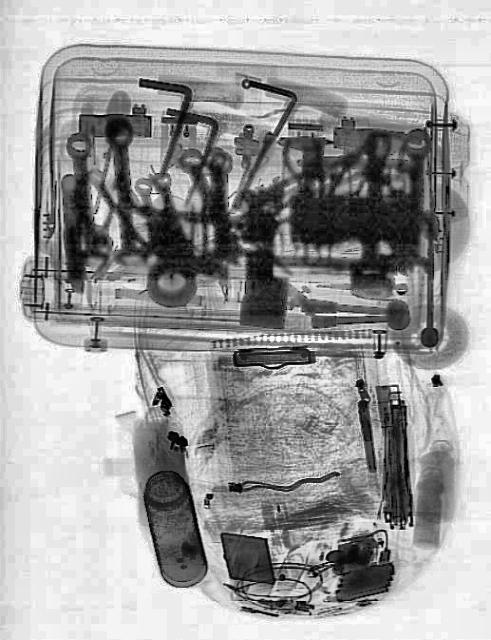Wrench: (65, 128, 109, 280), (102, 116, 146, 268)
